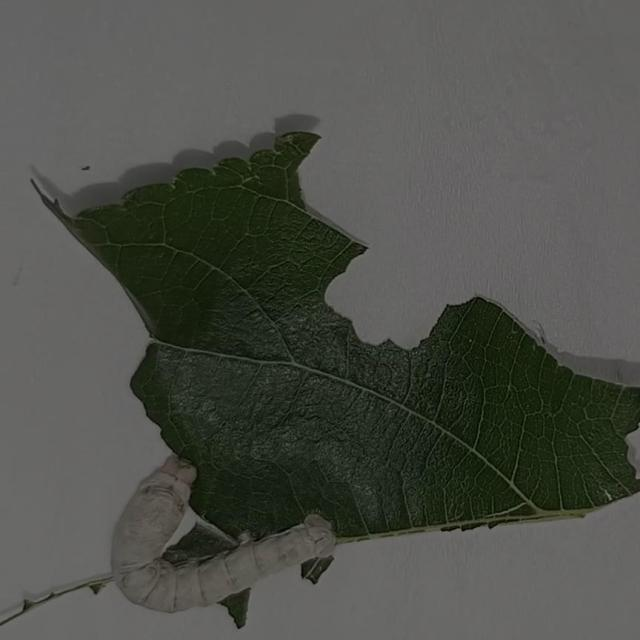Healthy: (103, 448, 350, 622)
